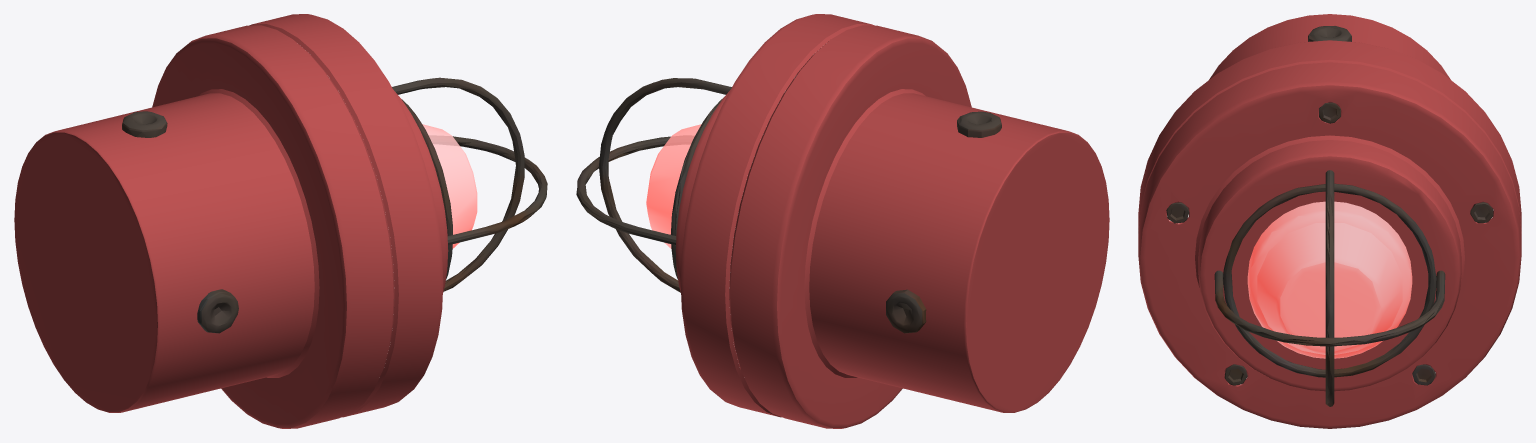
File: night_alarm_beacon.glb
3 views of the same model, side by side, from view 1: azimuth 30°, elevation 25°; view 2: azimuth 150°, elevation 25°; view 3: azimuth 270°, elevation 25° (orthographic). The views are drawn at different scales.
Parts seen in each view (by area): view 1: night_alarm_beacon; view 2: night_alarm_beacon; view 3: night_alarm_beacon.
Part boxes in pixels (box(x1,y1,x2,y2)): night_alarm_beacon: box(14, 14, 547, 428); night_alarm_beacon: box(576, 14, 1109, 428); night_alarm_beacon: box(1138, 14, 1521, 428).
Size of the model in its own units: 0.1786 by 0.14 by 0.14.
3 materials, 1 textured.
